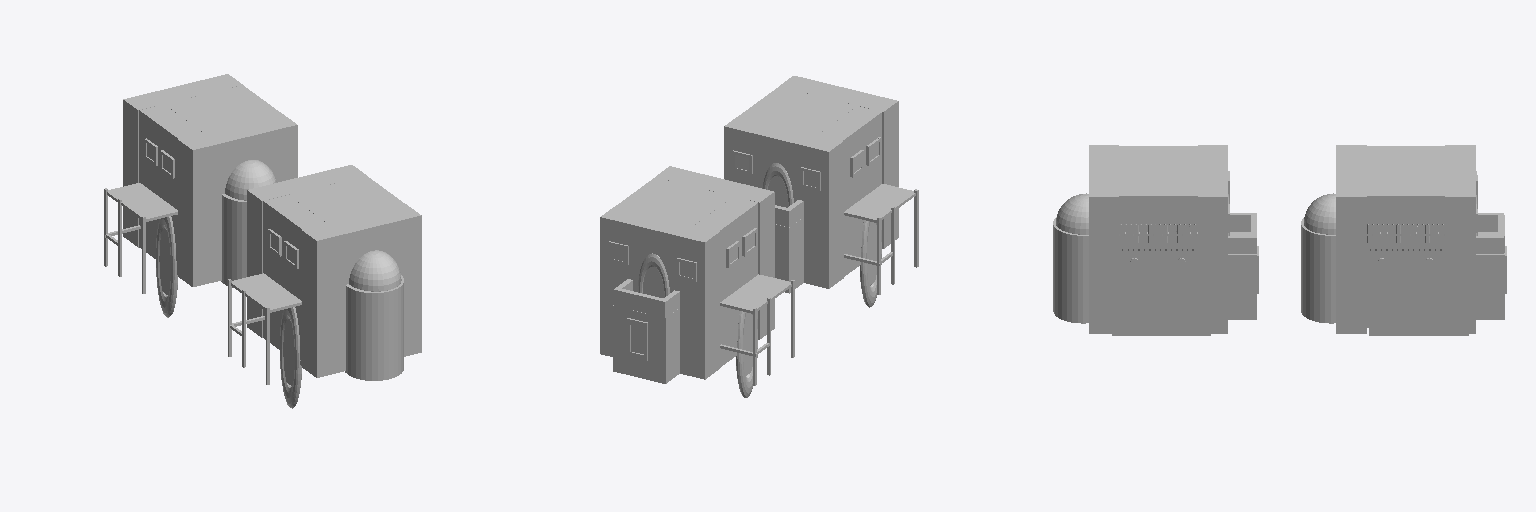
File: houserow_east.obj
3 renders of one model, left to right at view 1: azimuth 30°, elevation 25°; view 2: azimuth 150°, elevation 25°; view 3: azimuth 270°, elevation 25°, orthographic.
Parts seen in each view (by area): view 1: Torus.001, Torus.000, Cube.006_Cube.023, Cube.000; view 2: Torus.000, Torus.001, Cube.000, Cube.006_Cube.023; view 3: Torus.000, Torus.001, Cube_Cube.019, Cube_Cube.001_Cube_Cube.000.
Part boxes in pixels (bbox=[...]): Torus.001: bbox=[247, 165, 421, 408]; Torus.000: bbox=[123, 74, 297, 317]; Cube.006_Cube.023: bbox=[228, 229, 301, 385]; Cube.000: bbox=[104, 138, 177, 294]; Torus.000: bbox=[600, 166, 774, 397]; Torus.001: bbox=[724, 76, 898, 307]; Cube.000: bbox=[608, 228, 794, 385]; Cube.006_Cube.023: bbox=[732, 137, 918, 294]; Torus.000: bbox=[1301, 145, 1504, 333]; Torus.001: bbox=[1053, 145, 1256, 333]; Cube_Cube.019: bbox=[1112, 228, 1210, 335]; Cube_Cube.001_Cube_Cube.000: bbox=[1369, 228, 1468, 335].
Size of the model in its own units: 5.33 by 6.82 by 14.98.